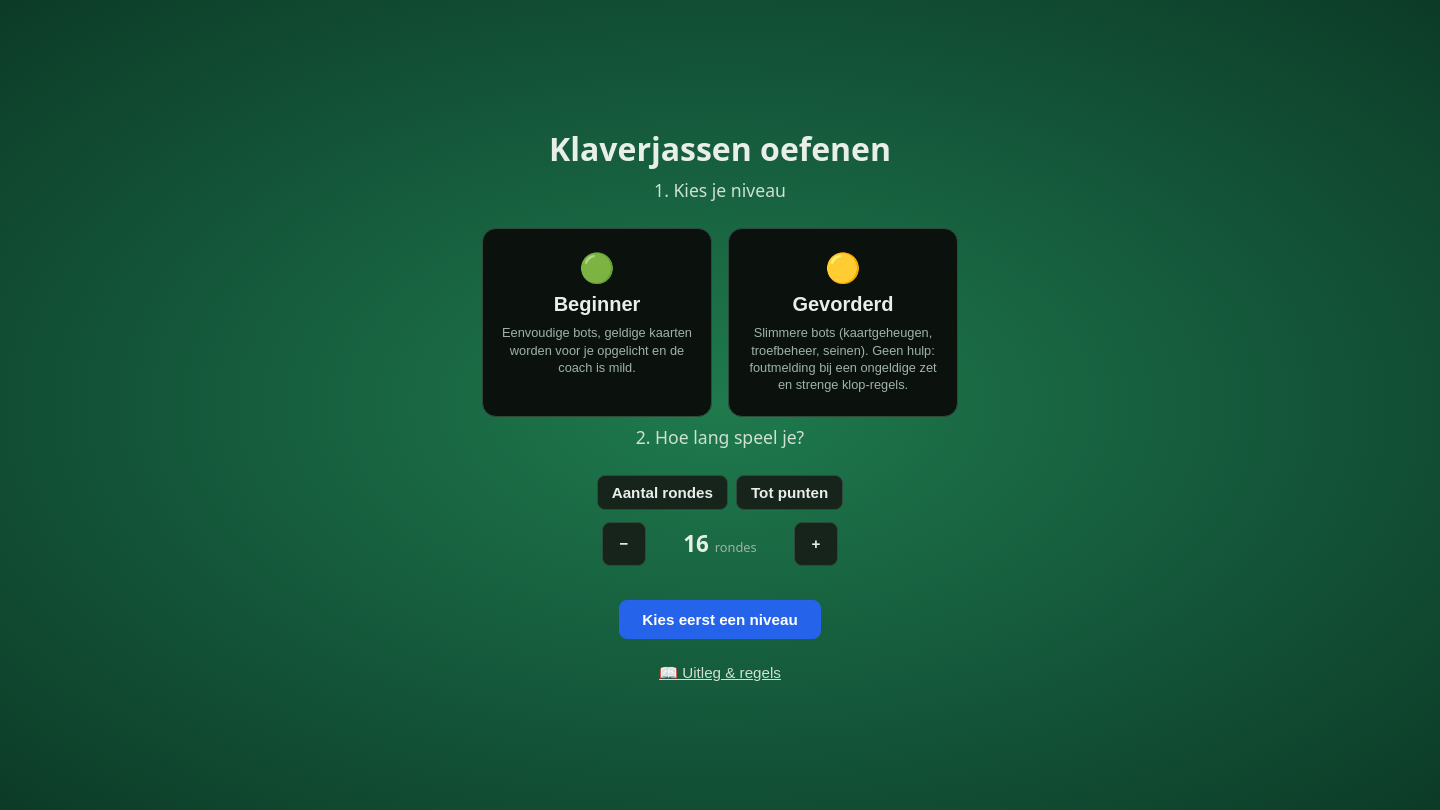
Test: App — render smoketest › na niveau + start wordt gedeeld: 8 kaarten voor de mens, biedfase
Click the text "Beginner". click: {"x": 597, "y": 305}
box: [554,294,640,316]
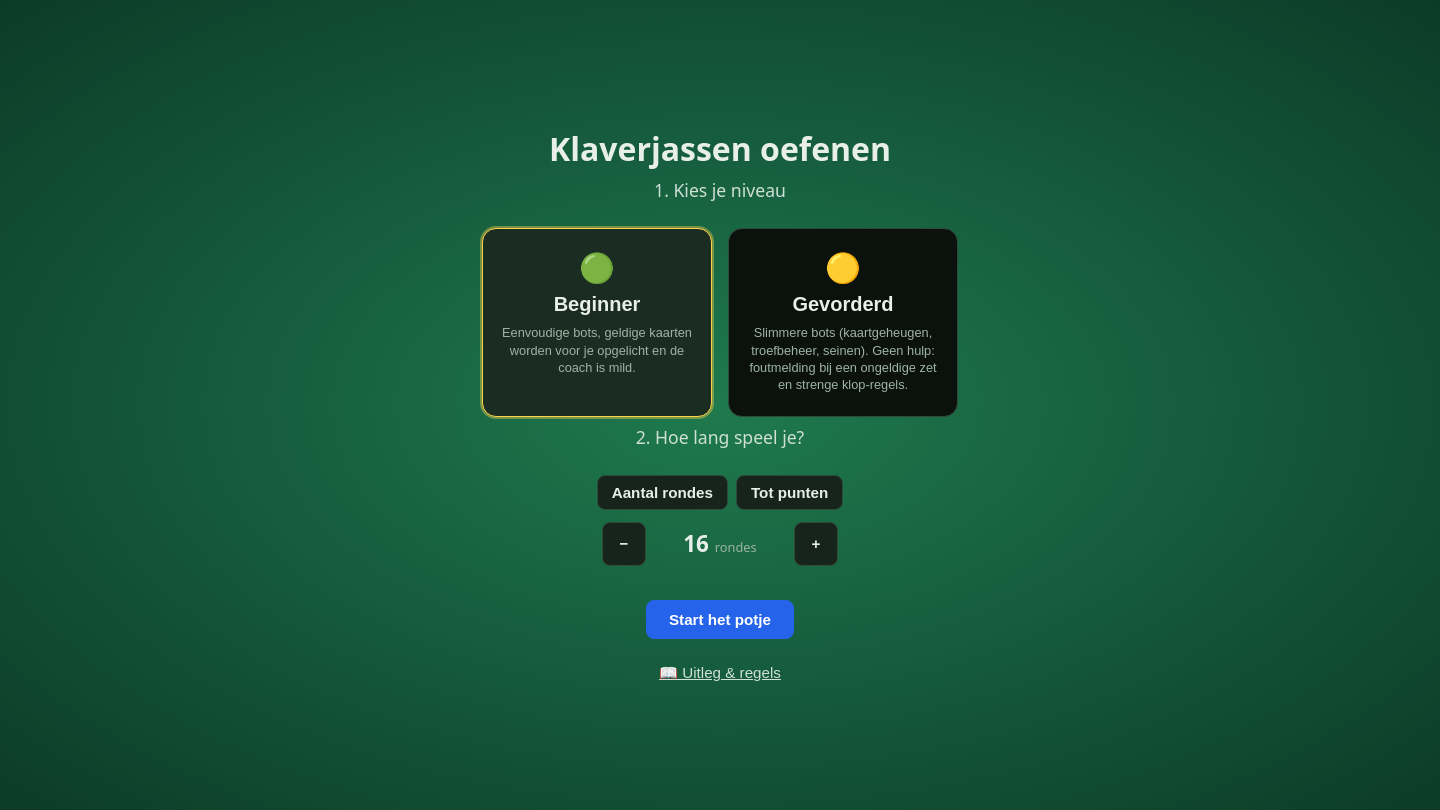
Click the button "Start het potje". click: {"x": 720, "y": 619}
box: [646,600,794,638]
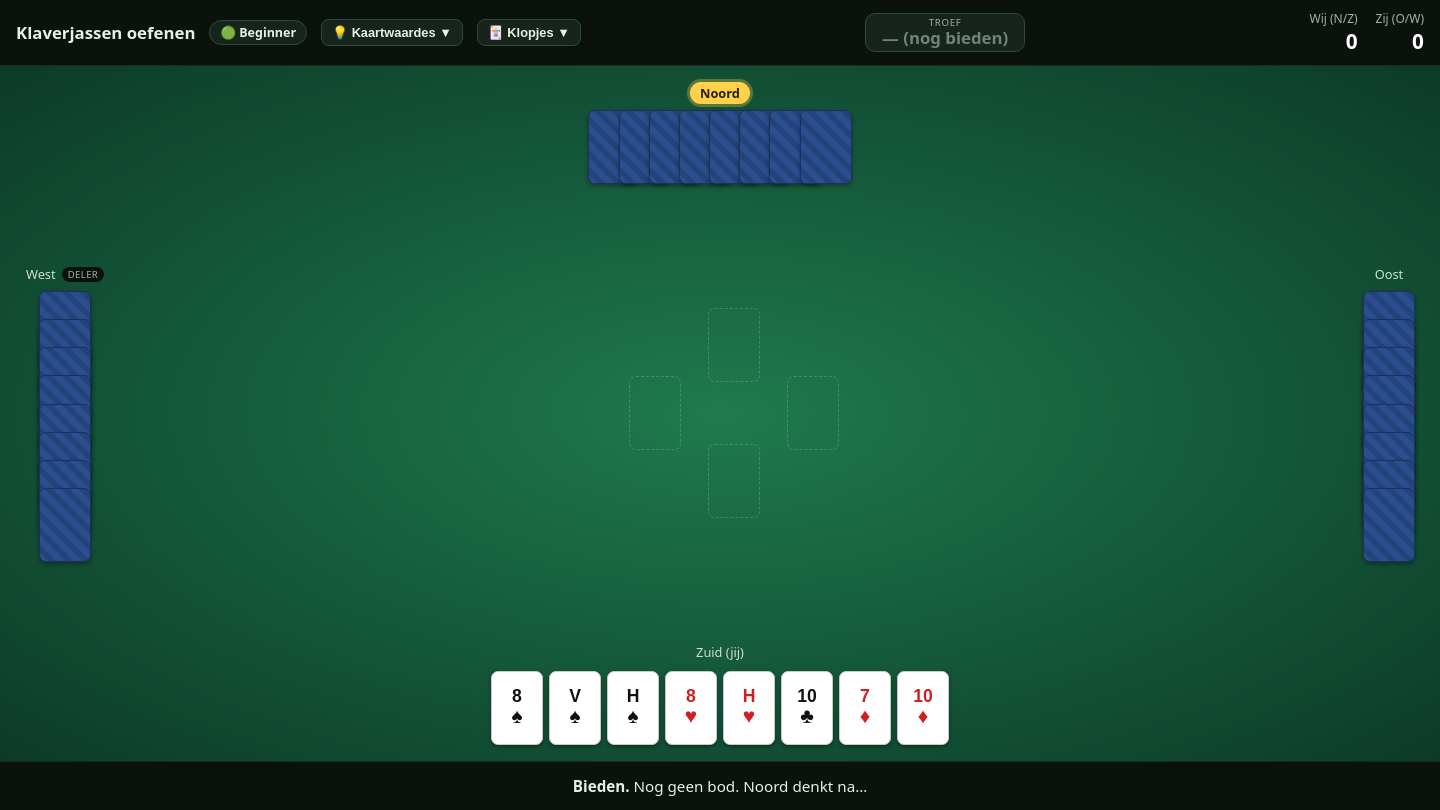
Expected: the text "bieden" is shown, [882,26,1008,49]
Expected: the number of elements with class "card--back" is 24
